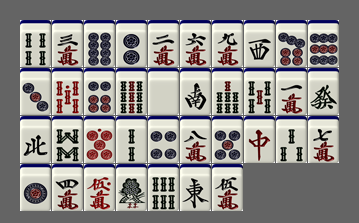0m: (84, 164, 115, 211)
0p: (84, 116, 115, 163)
0s: (52, 68, 83, 115)
1m: (276, 68, 307, 115)
1p: (20, 164, 51, 211)
1s: (116, 164, 147, 211)
1z: (180, 164, 211, 211)
2m: (148, 20, 179, 67)
2p: (116, 20, 147, 67)
2s: (116, 116, 147, 163)
2z: (180, 68, 211, 115)
3m: (52, 20, 83, 67)
3p: (20, 68, 51, 115)
3s: (276, 116, 307, 163)
3z: (244, 20, 275, 67)
4m: (52, 164, 83, 211)
4p: (148, 116, 179, 163)
4s: (20, 20, 51, 67)
4z: (20, 116, 51, 163)
5m: (212, 164, 243, 211)
5p: (212, 116, 243, 163)
5s: (244, 68, 275, 115)
5z: (148, 68, 179, 115)
6m: (180, 20, 211, 67)
6p: (84, 68, 115, 115)
6s: (148, 164, 179, 211)
6z: (308, 68, 339, 115)
7m: (308, 116, 339, 163)
7p: (276, 20, 307, 67)
7s: (212, 68, 243, 115)
7z: (244, 116, 275, 163)
8m: (180, 116, 211, 163)
8p: (84, 20, 115, 67)
8s: (52, 116, 83, 163)
9m: (212, 20, 243, 67)
9p: (308, 20, 339, 67)
9s: (116, 68, 147, 115)
